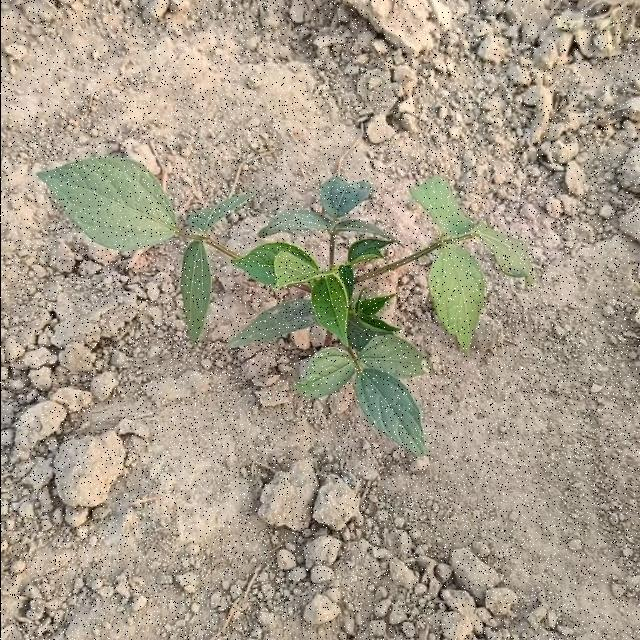plant: (38, 159, 534, 456)
